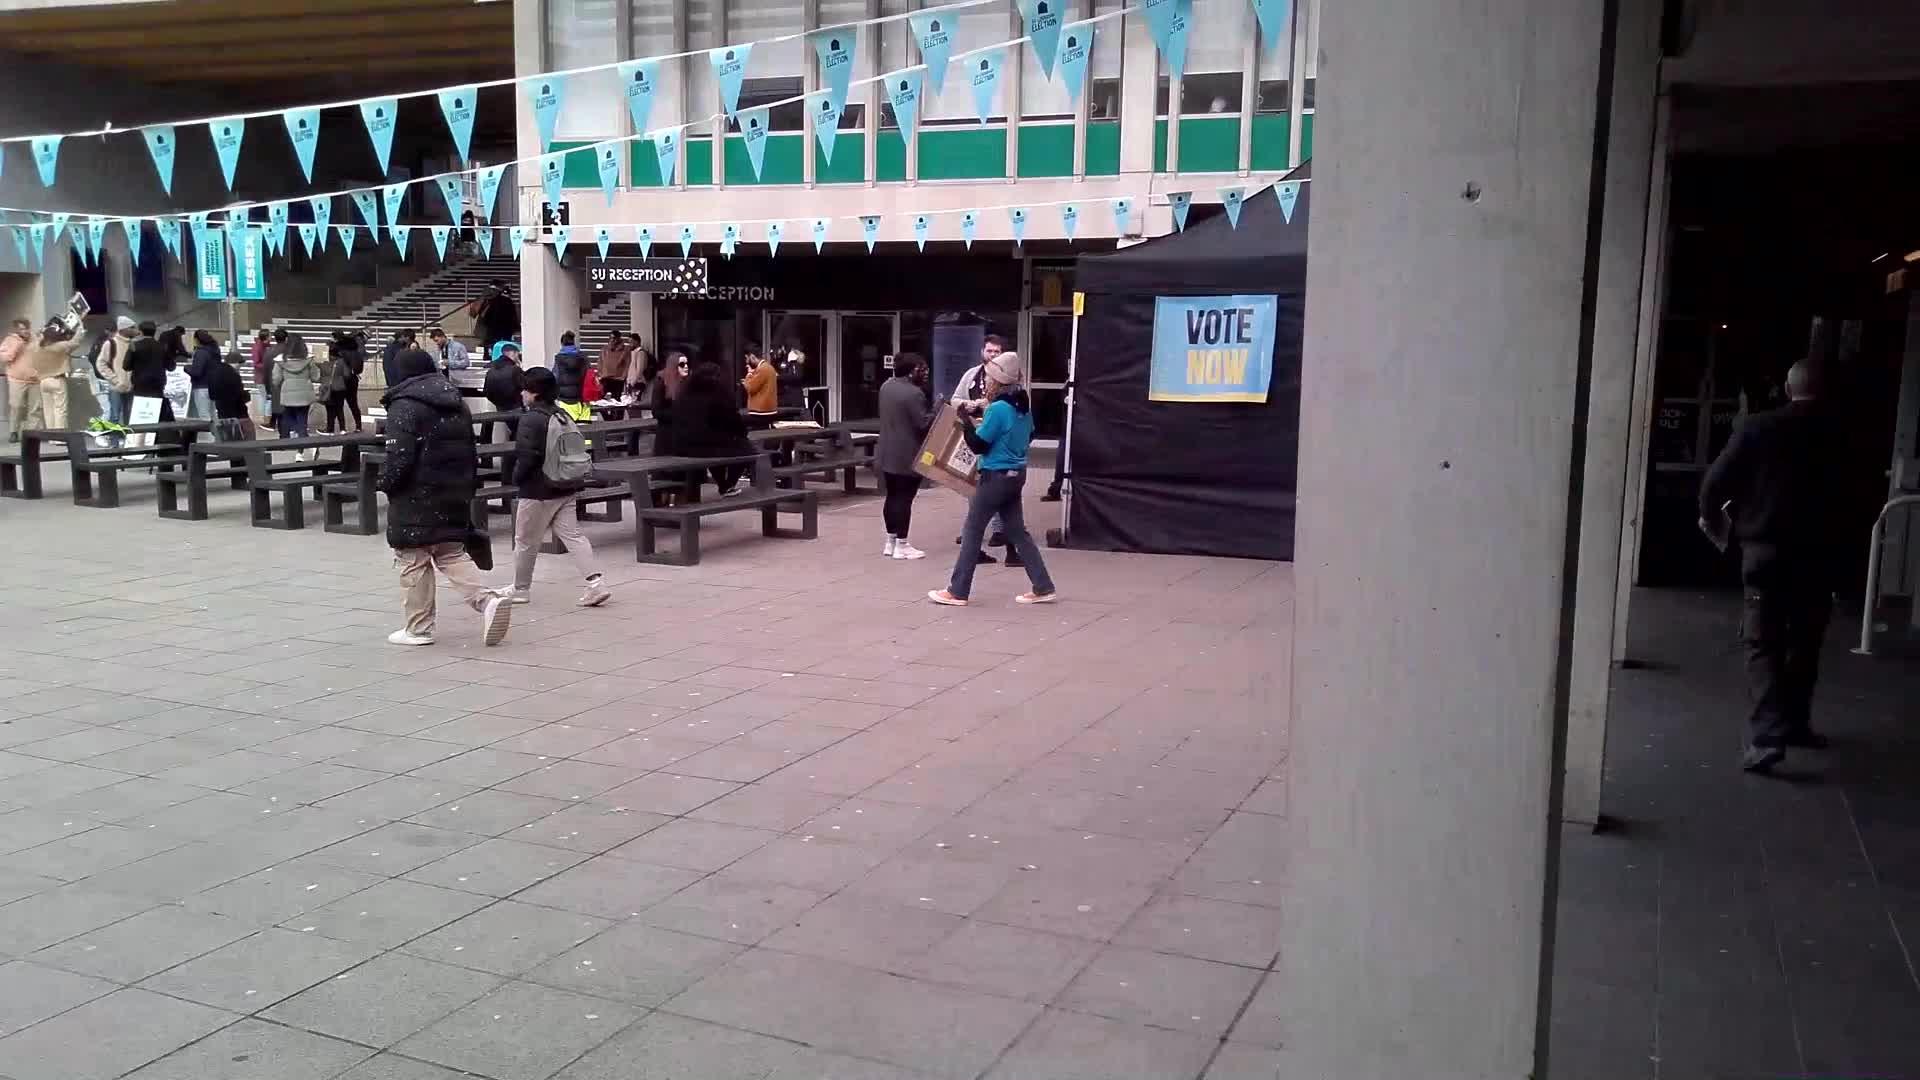Backpack: (409, 403, 486, 503), (544, 413, 597, 490)
Bench: (601, 454, 817, 553), (189, 435, 374, 537), (8, 417, 193, 517), (745, 417, 881, 501)
Person: (378, 343, 506, 635), (505, 355, 604, 611), (970, 351, 1045, 609), (888, 354, 924, 569), (653, 351, 692, 469), (272, 338, 316, 439), (222, 351, 256, 431), (740, 349, 774, 423)
